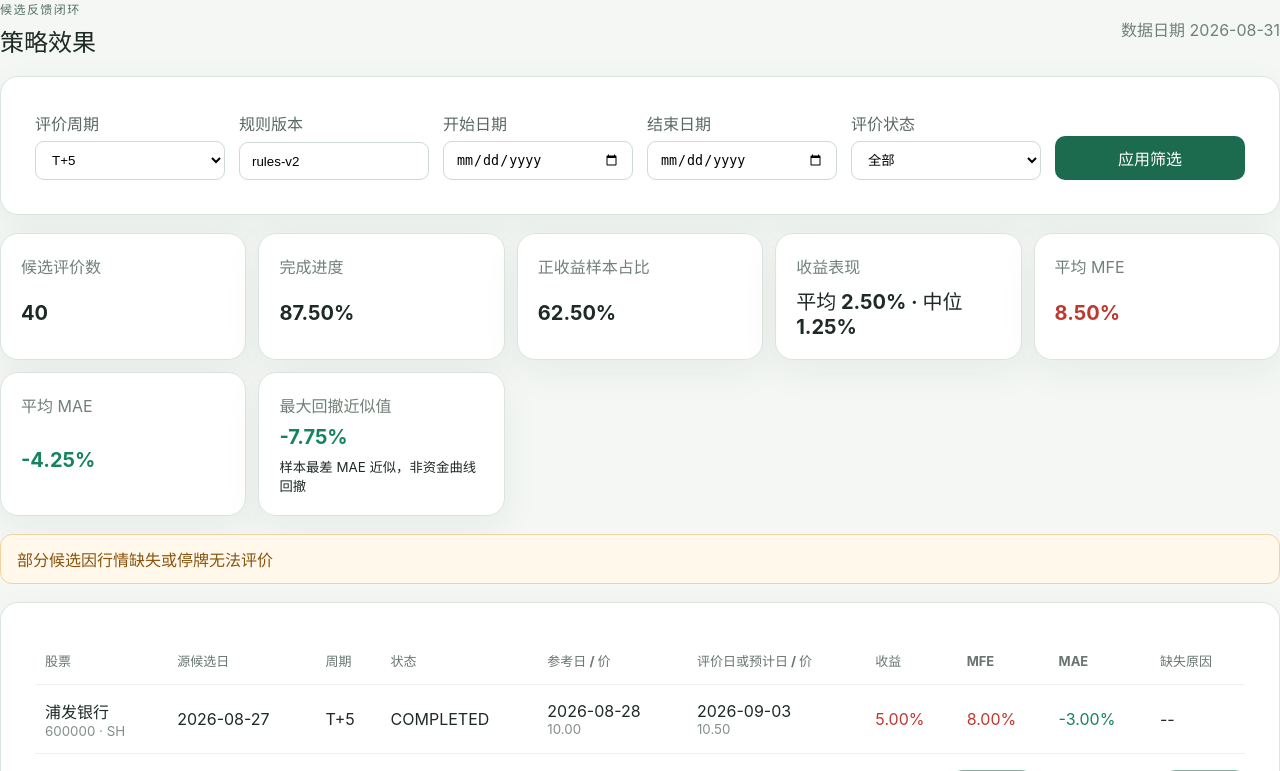
Test: StrategyEffectPage › 切换筛选后新请求未完成时不展示旧scope数据
Expected: the text "87.50%" is shown, 279,301 -> 354,325
Select "T+3" in the dropdown labelled "评价周期" at (130, 161), box 35,141 -> 225,180
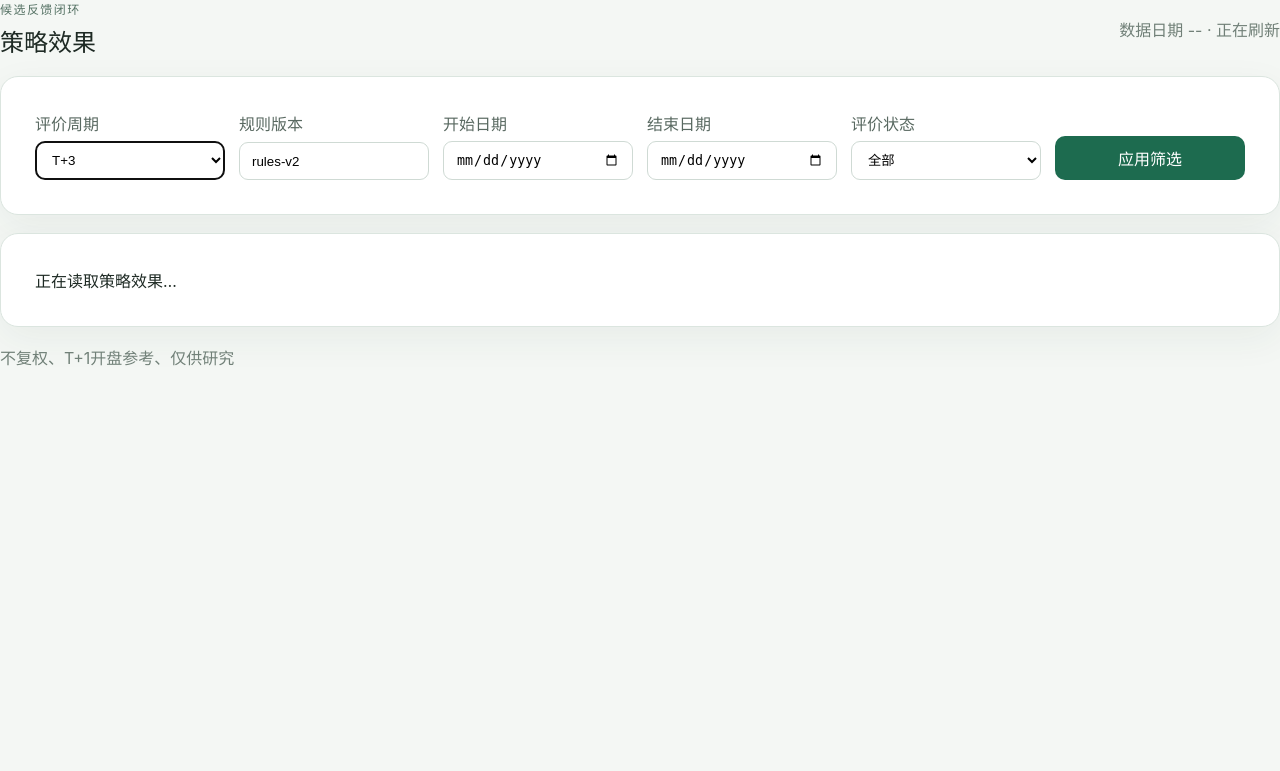
Expected: the message shows "正在读取策略效果", 35,271 -> 177,291
Expected: the text "87.50%" is gone
Expected: the table "策略效果明细" is gone
